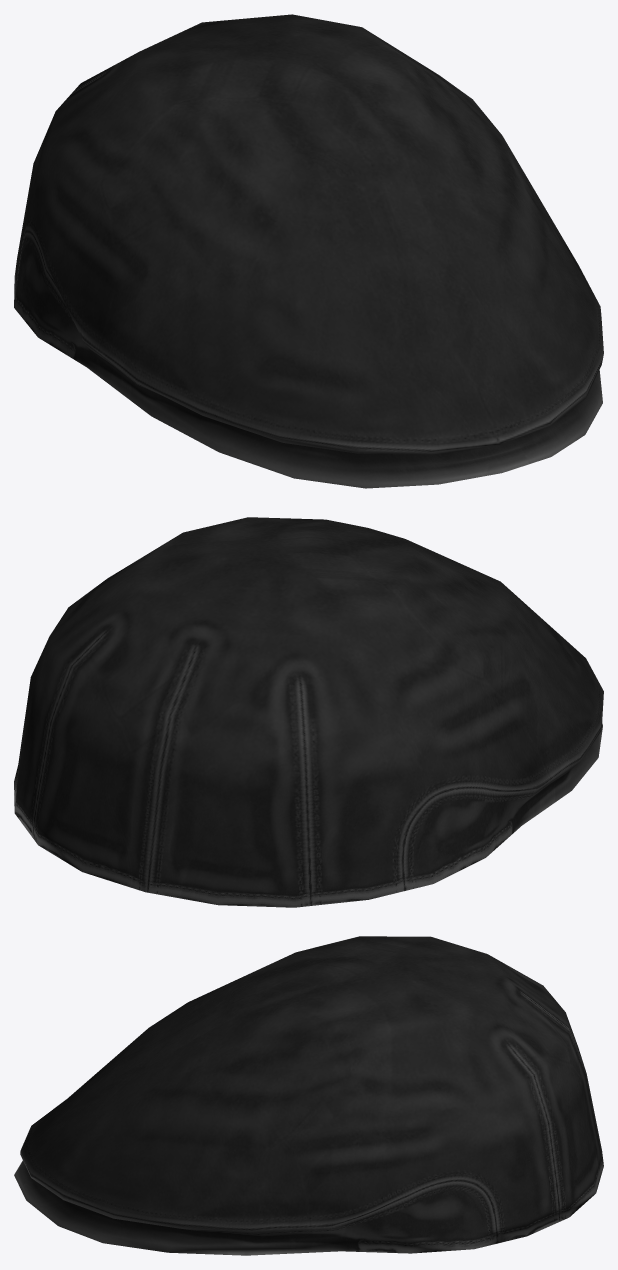
Rendered from leather_cap.glb.
3 renders of one model, top to bottom at view 1: azimuth 30°, elevation 25°; view 2: azimuth 150°, elevation 25°; view 3: azimuth 270°, elevation 25°, orthographic. The views are drawn at different scales.
Visible parts, largest first — view 1: Cap_low; view 2: Cap_low; view 3: Cap_low.
Boxes of the visible parts, box(x1,y1,x2,y2) form: Cap_low: box(14, 14, 603, 488); Cap_low: box(14, 517, 603, 907); Cap_low: box(14, 936, 603, 1255).
Bounding box in the file's own units: 0.1487 × 0.0817 × 0.2018.
1 material, 1 textured.
